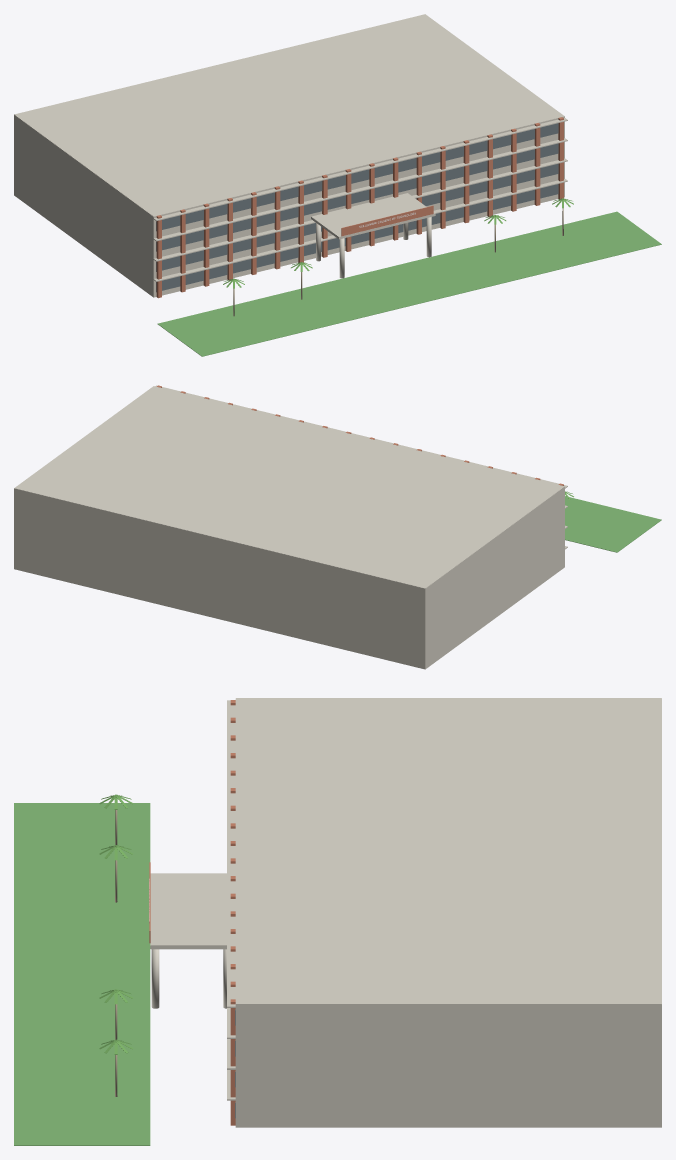
The model's file is psg_tech_ao.glb.
3 views of the same model, one above another, from view 1: azimuth 30°, elevation 25°; view 2: azimuth 150°, elevation 25°; view 3: azimuth 270°, elevation 25° (orthographic). The views are drawn at different scales.
Visible parts, largest first — view 1: psg_tech; view 2: psg_tech; view 3: psg_tech.
Part boxes in pixels (<box>): psg_tech: <box>14,14,661,356</box>; psg_tech: <box>14,385,661,669</box>; psg_tech: <box>14,698,661,1145</box>.
Bounding box in the file's own units: 95 × 16 × 76.
